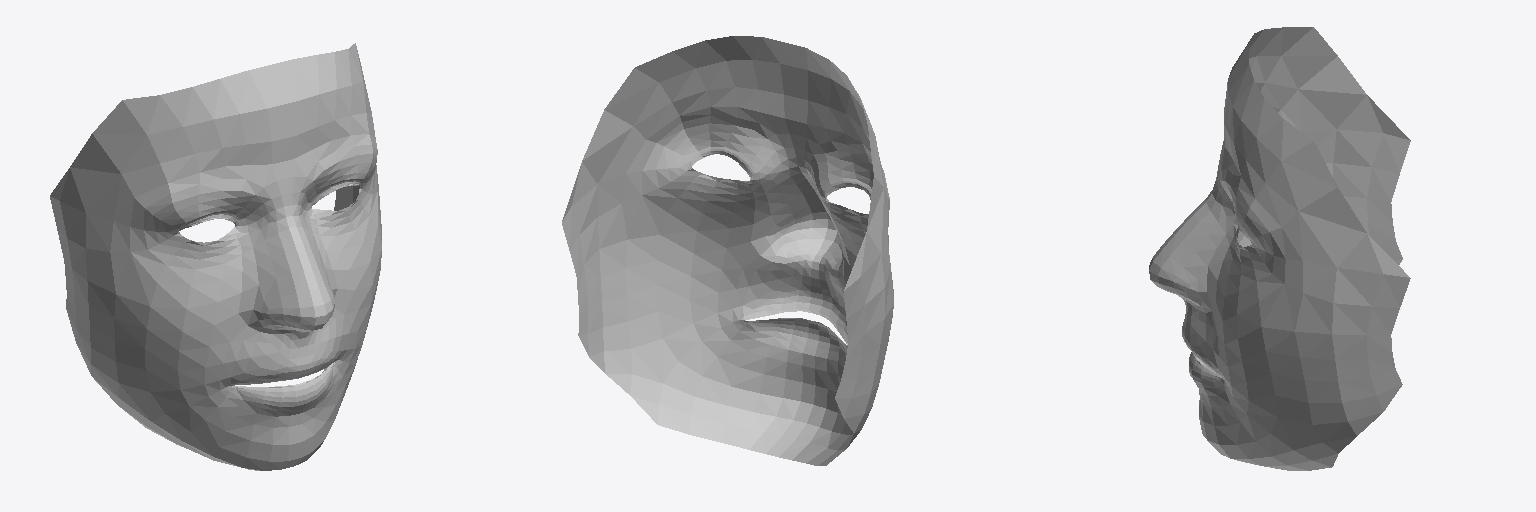
The model's file is face-modelx.obj.
3 renders of one model, left to right at view 1: azimuth 30°, elevation 25°; view 2: azimuth 150°, elevation 25°; view 3: azimuth 270°, elevation 25°, orthographic.
Bounding box in the file's own units: 15.7 × 21.04 × 12.32.